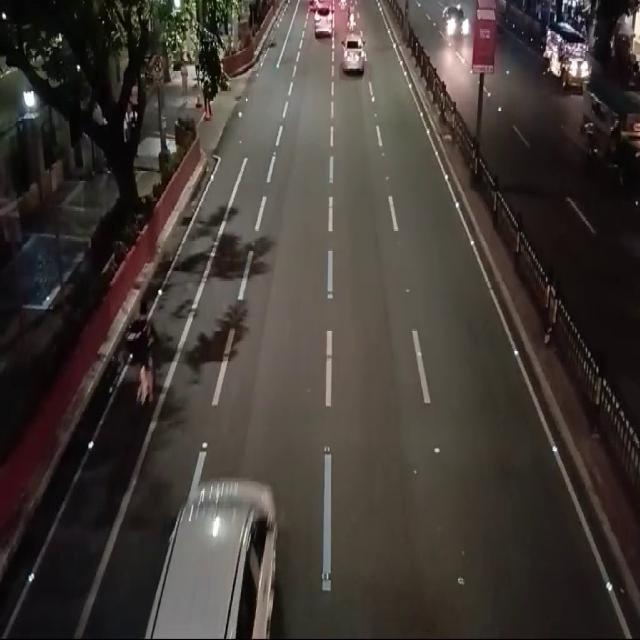car: (156, 480, 283, 639), (338, 35, 365, 80), (310, 2, 336, 38)
jeepney: (538, 27, 587, 98)
